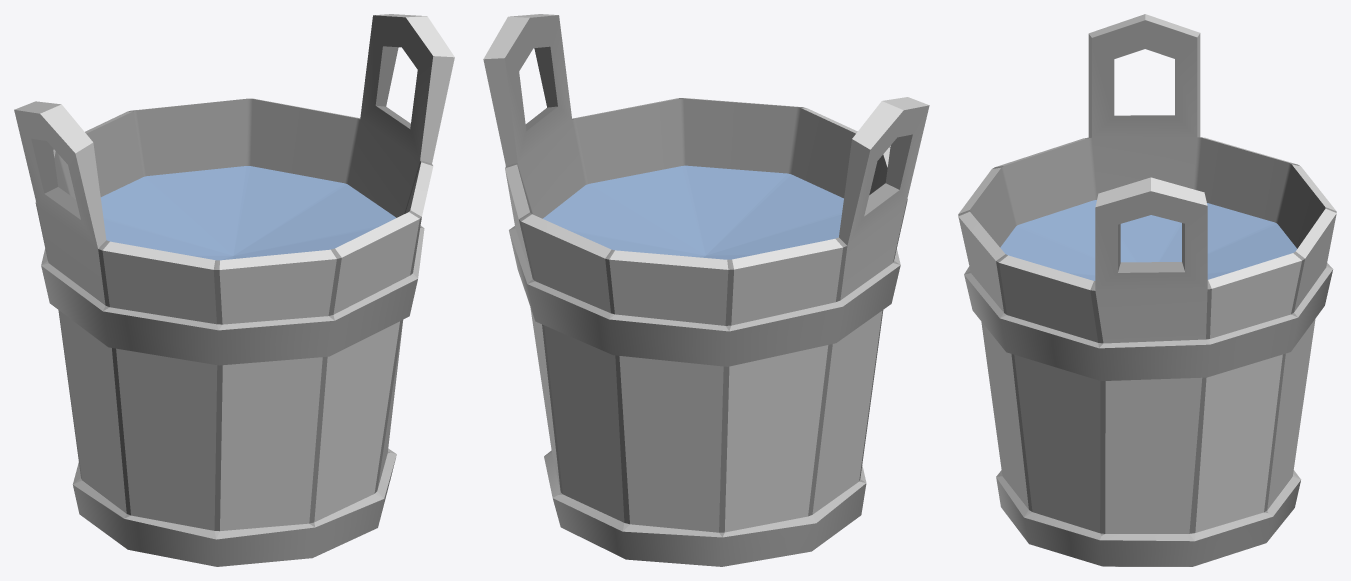
The model's file is PT_Barrel_18.fbx.
3 views of the same model, side by side, from view 1: azimuth 30°, elevation 25°; view 2: azimuth 150°, elevation 25°; view 3: azimuth 270°, elevation 25° (orthographic). The views are drawn at different scales.
Parts seen in each view (by area): view 1: PT_Barrel_18; view 2: PT_Barrel_18; view 3: PT_Barrel_18.
Part boxes in pixels (x1,y1,x2,y2): PT_Barrel_18: (14,14,454,566); PT_Barrel_18: (483,14,929,566); PT_Barrel_18: (958,14,1336,566).
Size of the model in its own units: 47.23 by 51.26 by 42.63.
1 material, 1 textured.
